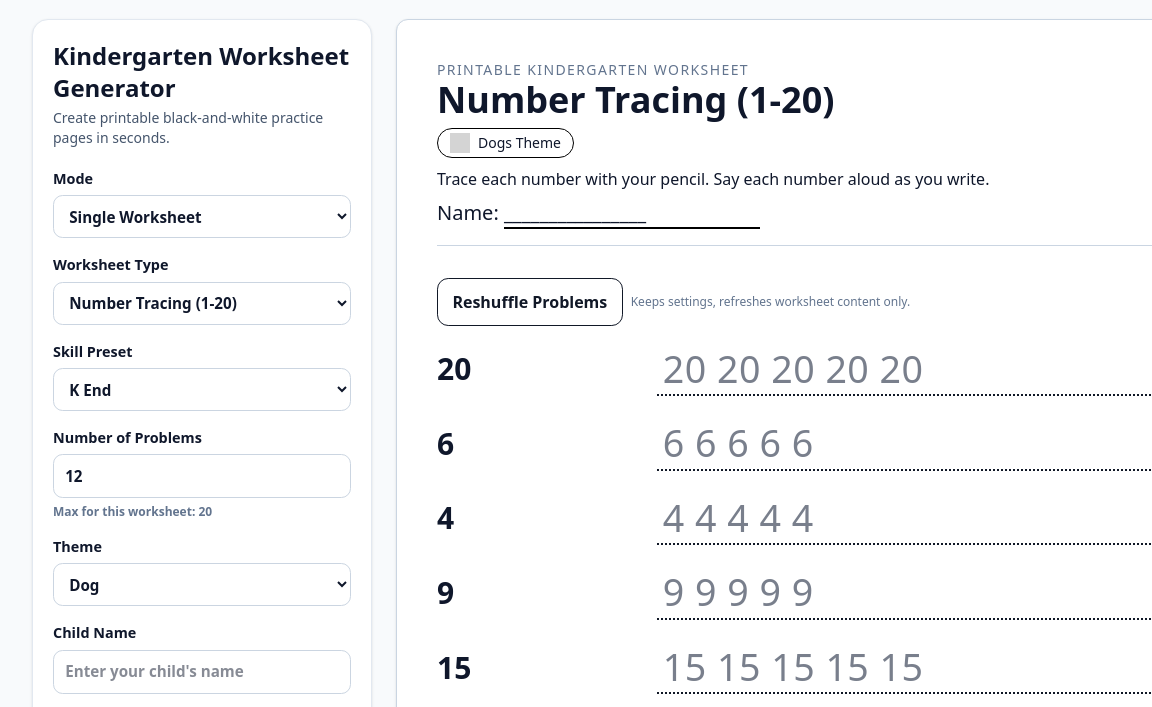
Scenario: app regression coverage › shows sight word source controls when sight words are selected
The width and height of the screenshot is (1152, 707).
Select "Sight Word Tracing" in the dropdown labelled "Worksheet Type" at x=202, y=303, box x1=53 y1=282 x2=351 y2=325
(page scrolled)
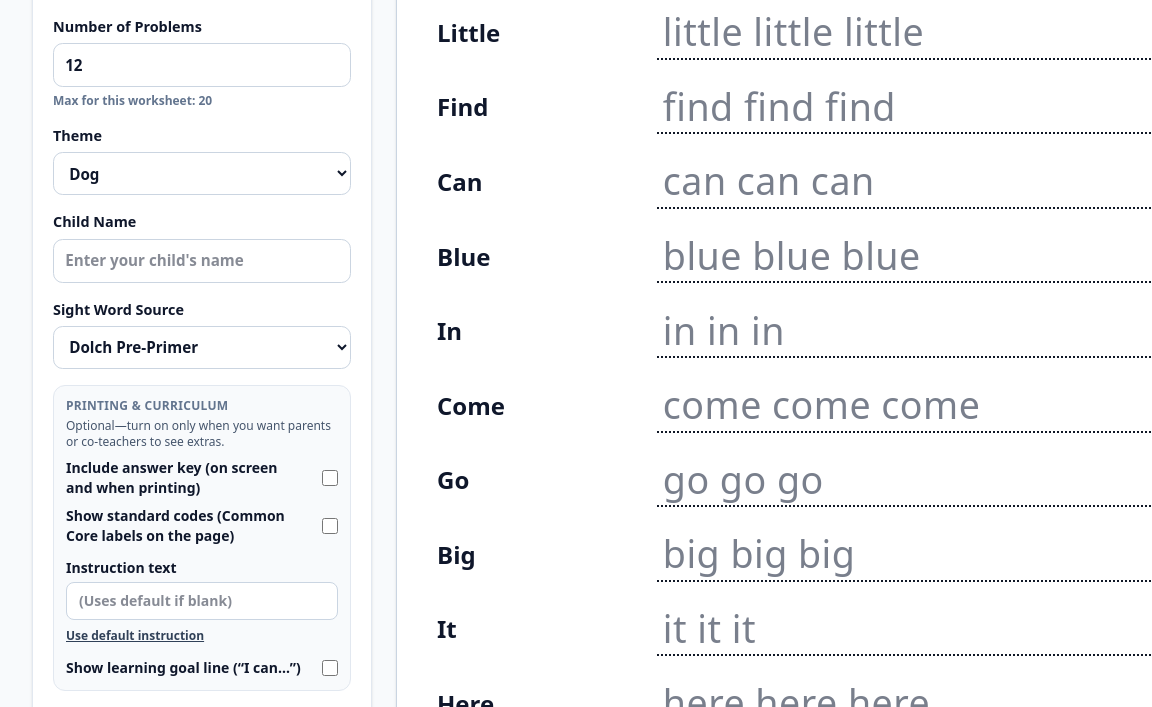
Expected: the dropdown labelled "Sight Word Source" is shown, x1=53 y1=326 x2=351 y2=369
